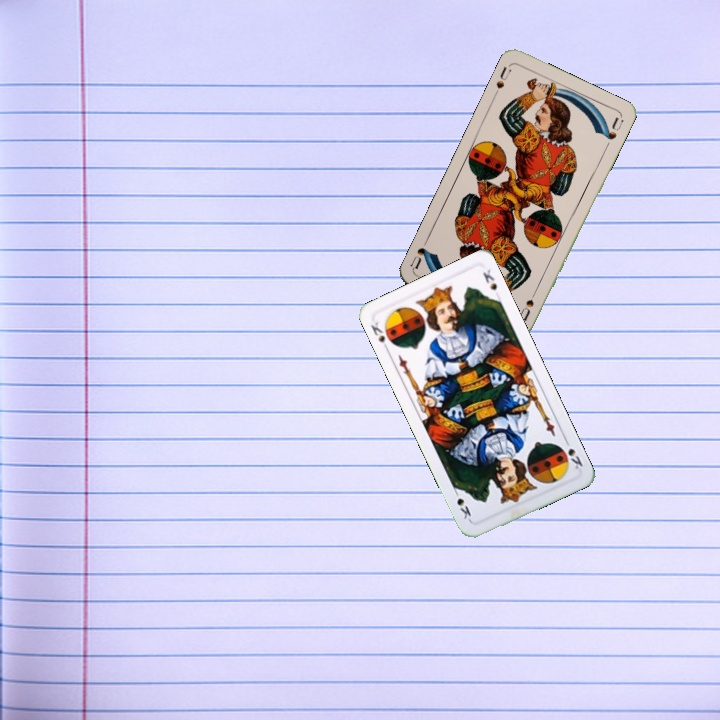SK: (560, 434, 585, 472), (367, 317, 392, 354)
SU: (515, 283, 541, 323), (490, 63, 514, 99)
